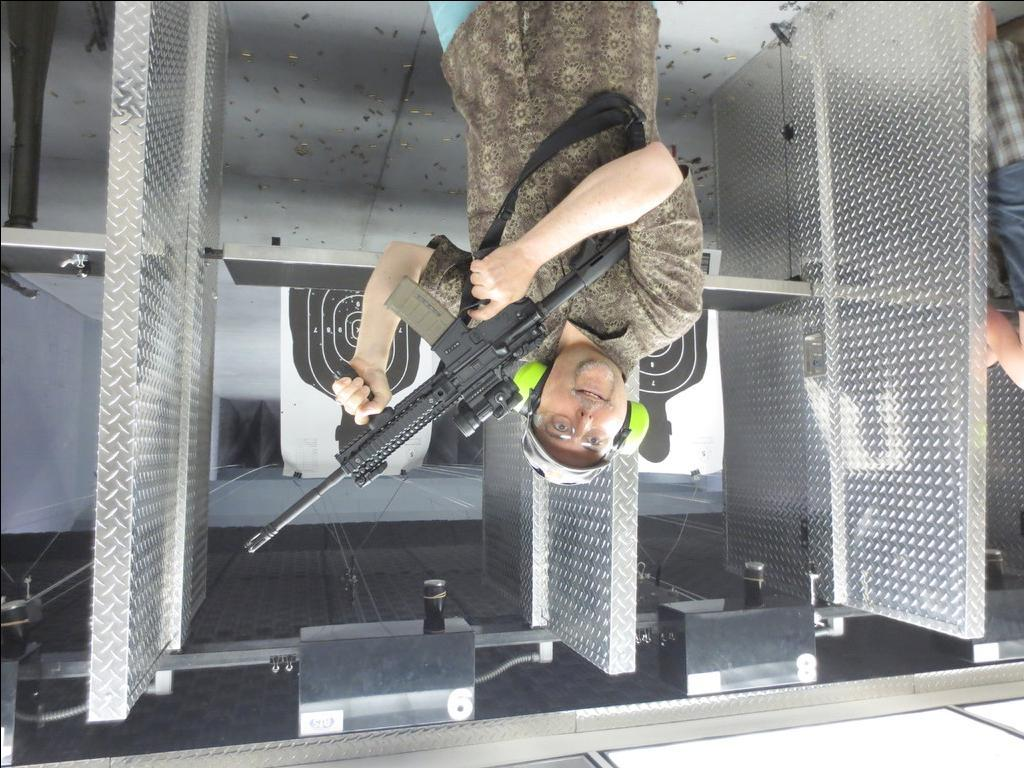gun: (241, 230, 634, 554)
